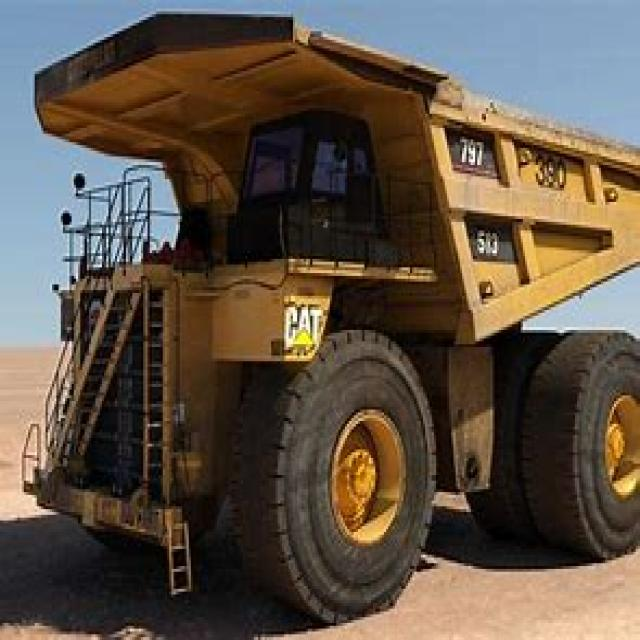dump_truck: (22, 9, 638, 612)
